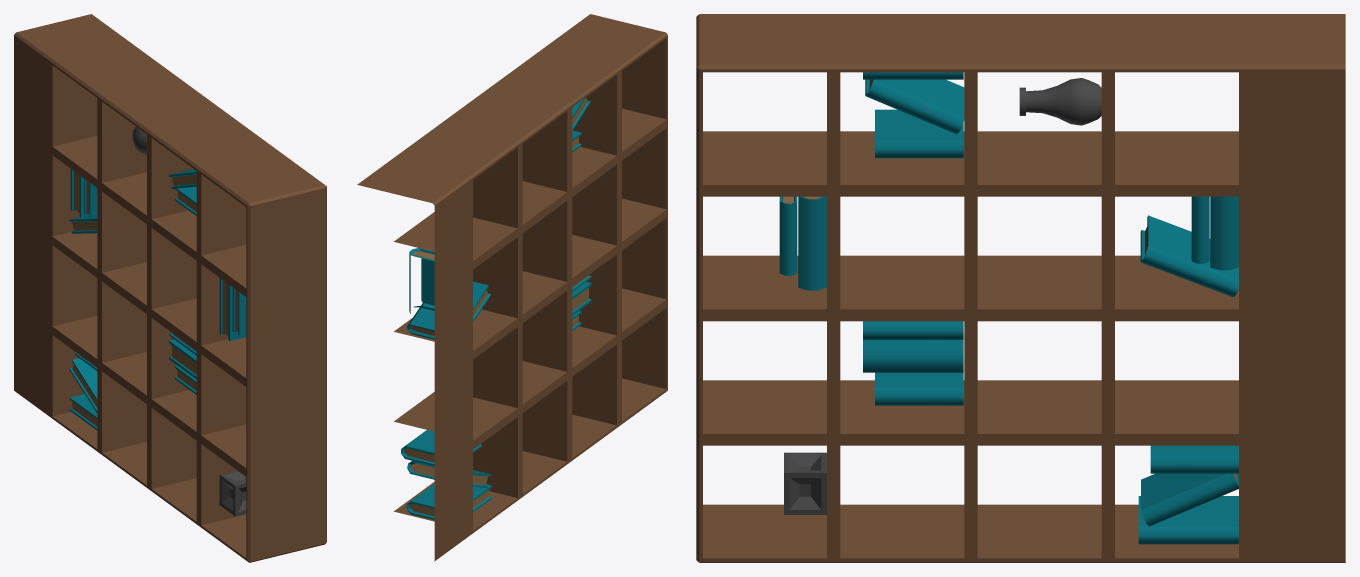
Rendered from bookshelf.glb.
3 views of the same model, side by side, from view 1: azimuth 30°, elevation 25°; view 2: azimuth 150°, elevation 25°; view 3: azimuth 270°, elevation 25° (orthographic). The views are drawn at different scales.
Visible parts, largest first — view 1: bookshelf; view 2: bookshelf; view 3: bookshelf.
Part boxes in pixels (<box>): bookshelf: <box>14,14,326,562</box>; bookshelf: <box>357,14,667,561</box>; bookshelf: <box>696,14,1345,562</box>.
Bounding box in the file's own units: 0.447 × 1.93 × 2.28.
